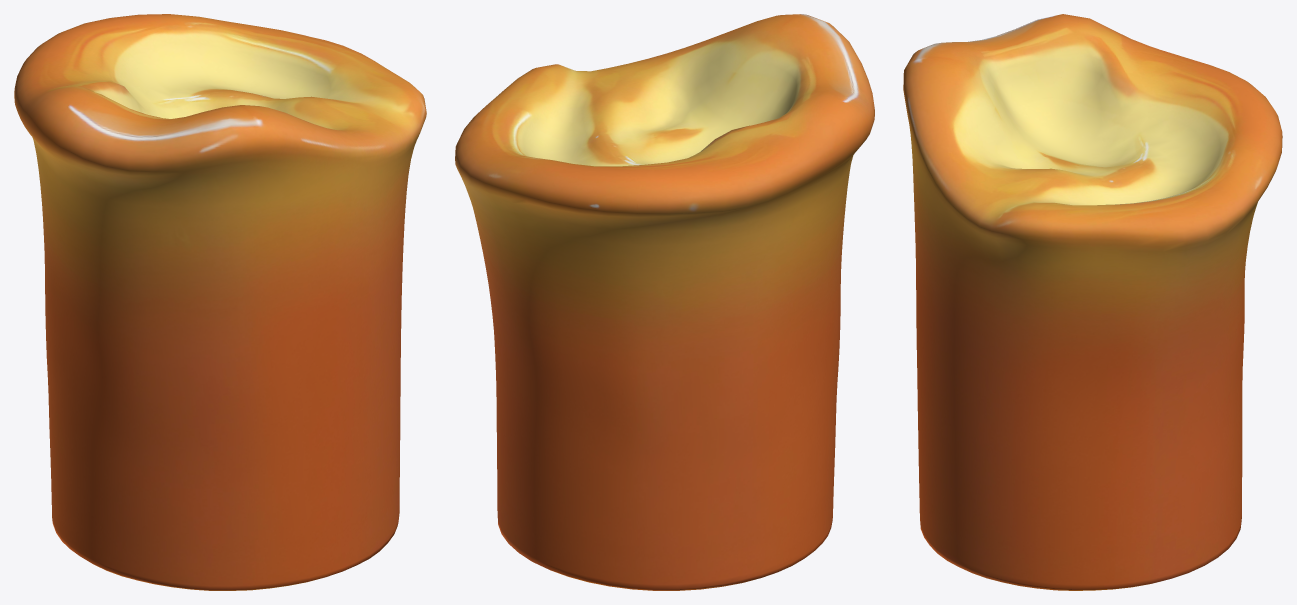
Rendered from candleMelty.fbx.
3 renders of one model, left to right at view 1: azimuth 30°, elevation 25°; view 2: azimuth 150°, elevation 25°; view 3: azimuth 270°, elevation 25°, orthographic. The views are drawn at different scales.
Parts seen in each view (by area): view 1: candle; view 2: candle; view 3: candle.
Boxes of the visible parts, x1,y1,x2,y2 form: candle: (14, 14, 426, 590); candle: (455, 14, 874, 590); candle: (903, 14, 1282, 590).
Size of the model in its own units: 8.01 by 9.99 by 7.75.
